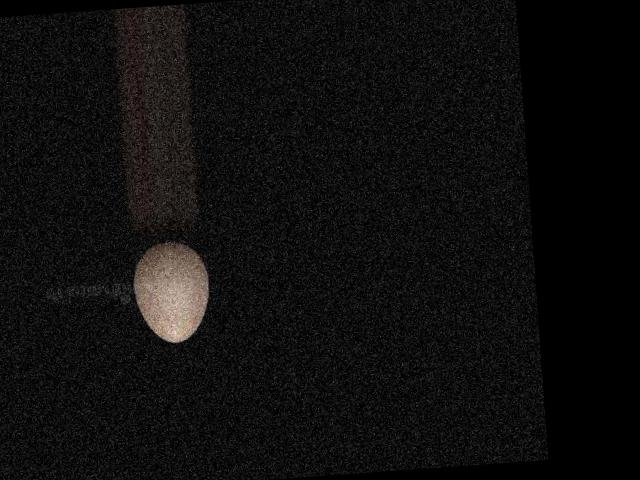egg: (132, 238, 213, 345)
